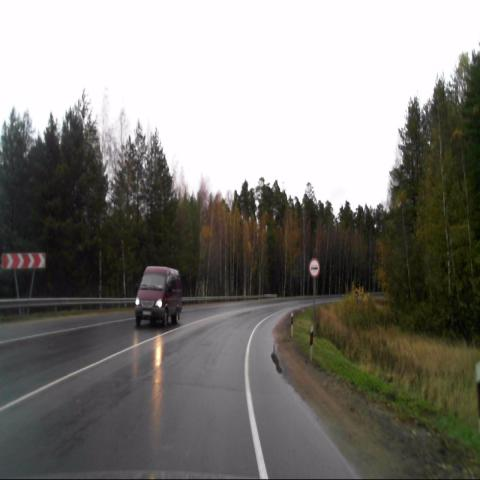3_20: (308, 257, 320, 278)
